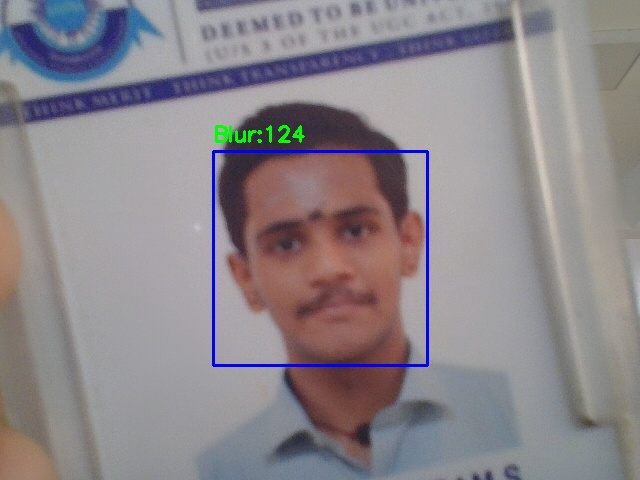fake: (213, 151, 427, 365)
